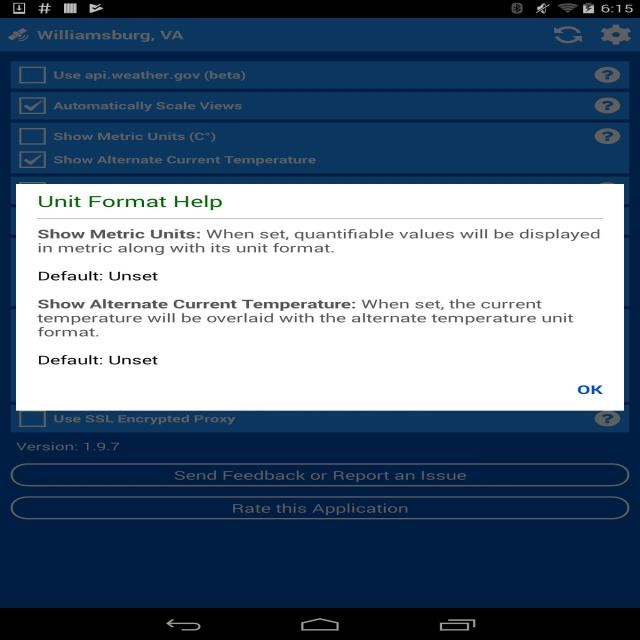button: (11, 460, 631, 487), (9, 495, 634, 521), (567, 375, 617, 405), (597, 21, 637, 49), (552, 22, 583, 48)
heading: (35, 193, 225, 214), (32, 26, 189, 45)
image: (8, 23, 32, 48)
text: (31, 226, 611, 370), (48, 153, 321, 169), (51, 126, 220, 147), (53, 68, 248, 84), (49, 100, 249, 114), (10, 440, 134, 454)
